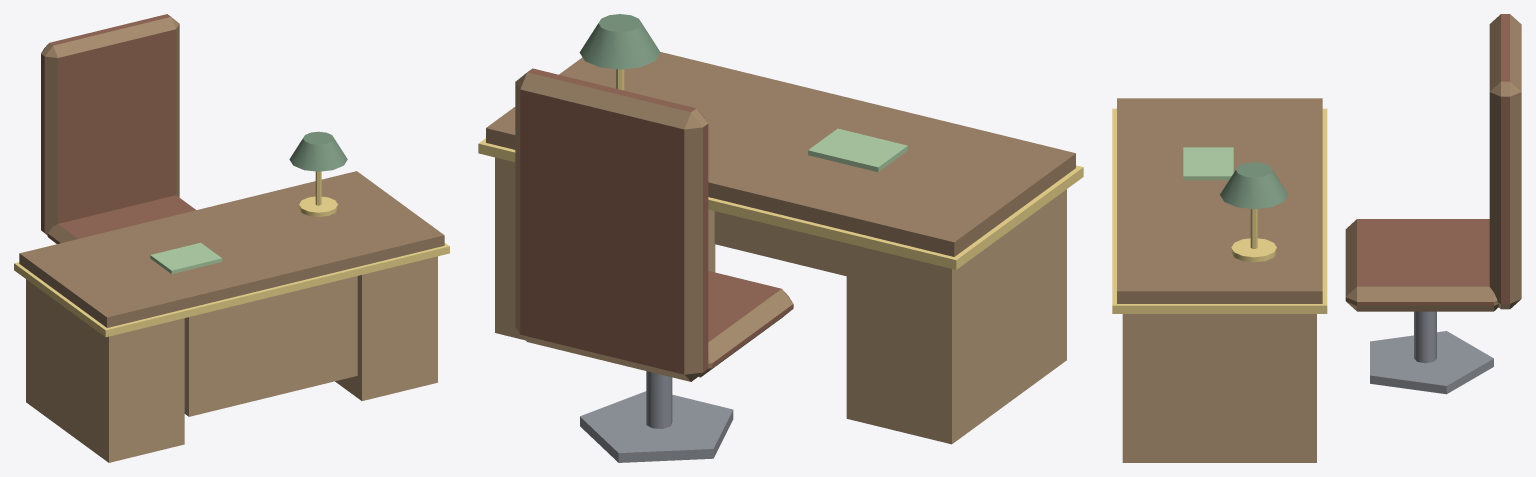
The model's file is rs_don_desk.glb.
The picture shows the model from 3 angles, left to right: view 1: azimuth 30°, elevation 25°; view 2: azimuth 150°, elevation 25°; view 3: azimuth 270°, elevation 25°; orthographic projection. The views are drawn at different scales.
Visible parts, largest first — view 1: rs_don_desk; view 2: rs_don_desk; view 3: rs_don_desk.
Boxes of the visible parts, x1,y1,x2,y2 form: rs_don_desk: (14, 14, 449, 462); rs_don_desk: (478, 14, 1083, 462); rs_don_desk: (1112, 14, 1521, 462).
Bounding box in the file's own units: 2.04 × 1.55 × 1.79.
